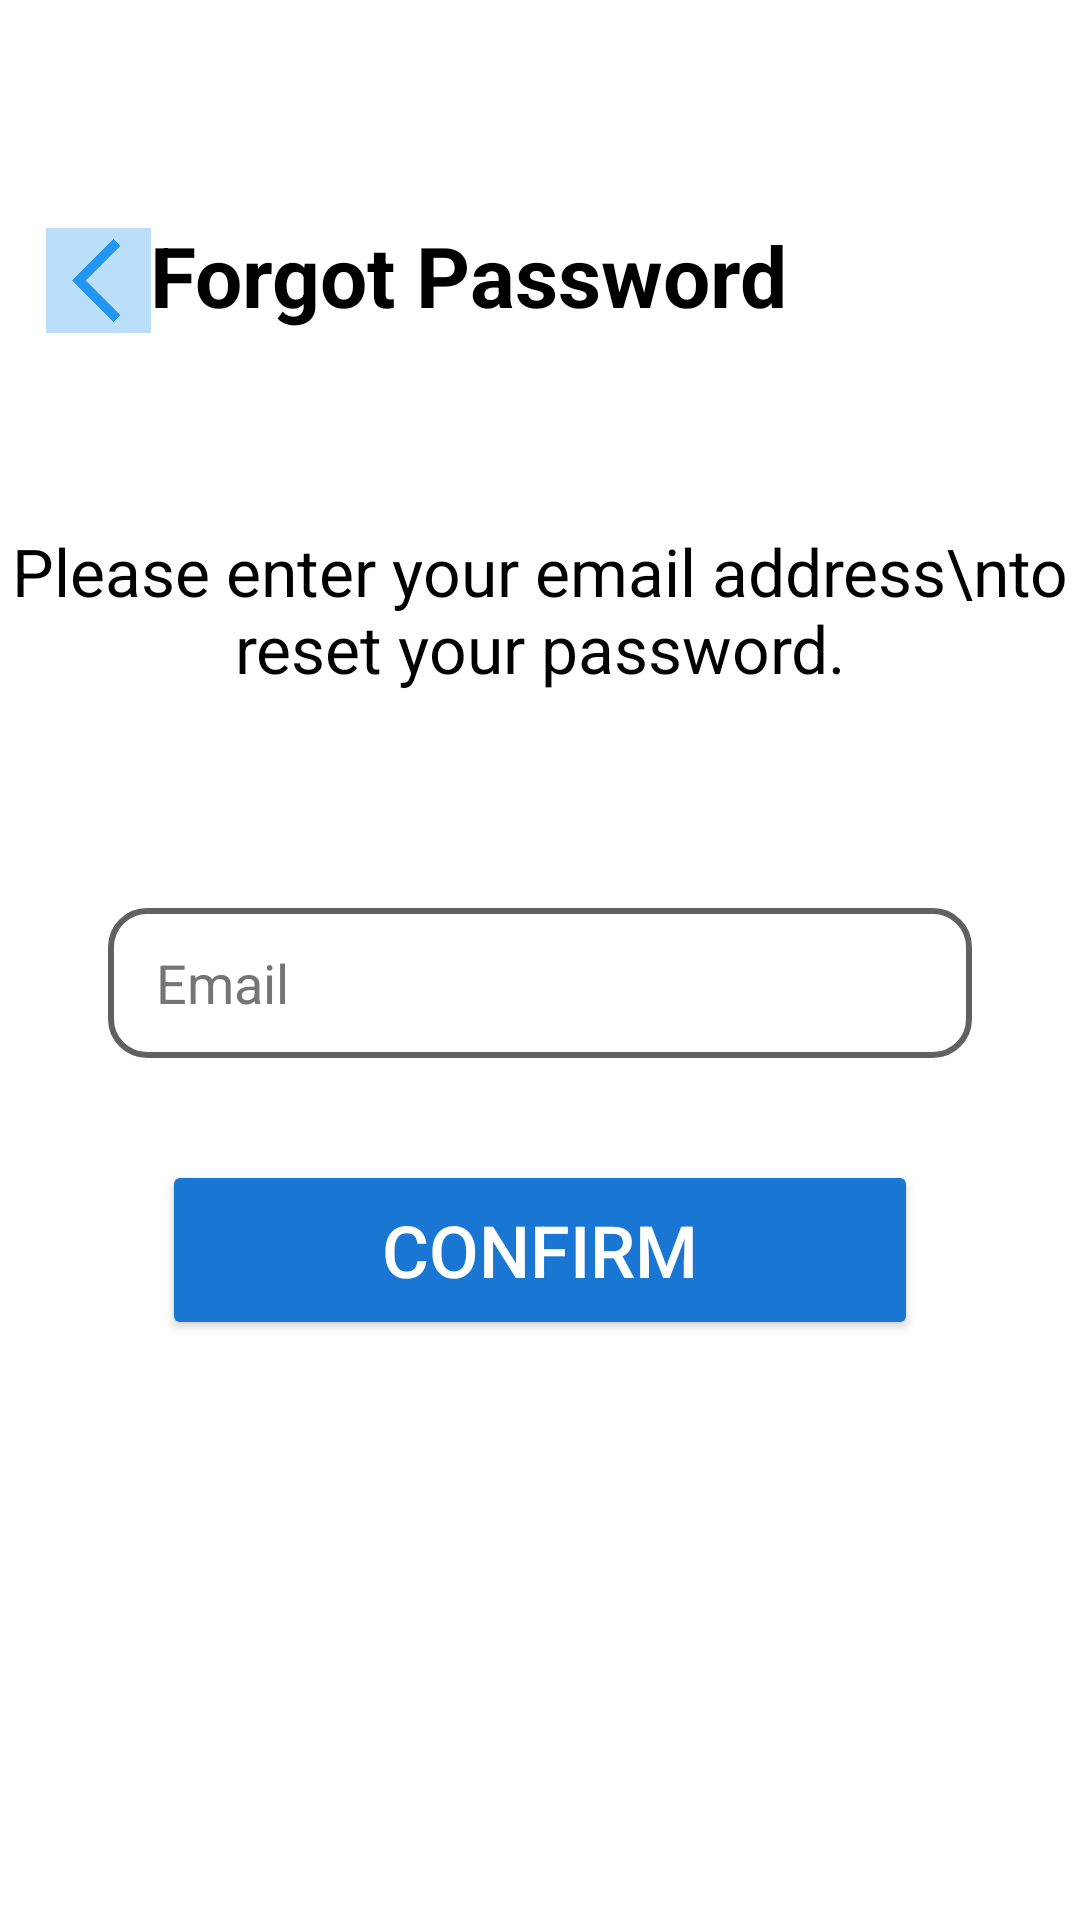

Named icons in this screenshot (1080px x 1920px) and their bounding boxes, bbox=[x1, y1, x2, y2]:
comeback: bbox=[46, 228, 151, 333]
